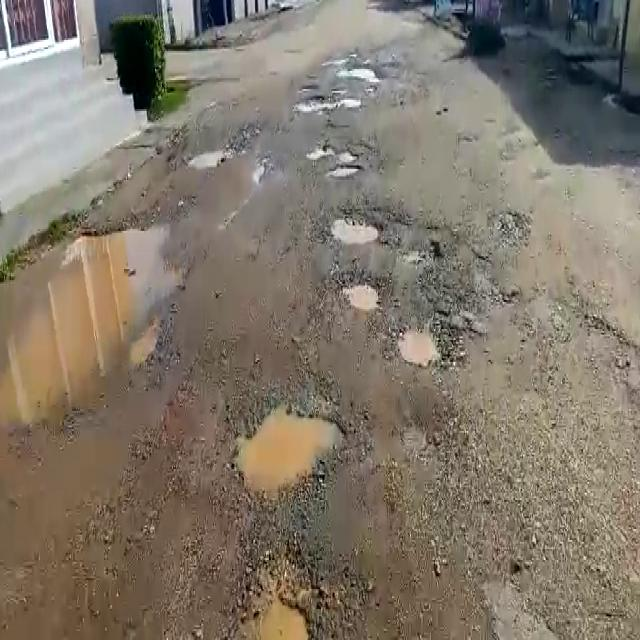Pothole: (1, 225, 183, 435), (228, 400, 354, 502), (243, 564, 323, 640), (338, 271, 384, 314), (331, 212, 382, 248), (396, 324, 439, 363), (294, 94, 356, 115), (186, 146, 229, 166), (345, 62, 381, 80), (331, 160, 366, 177)
